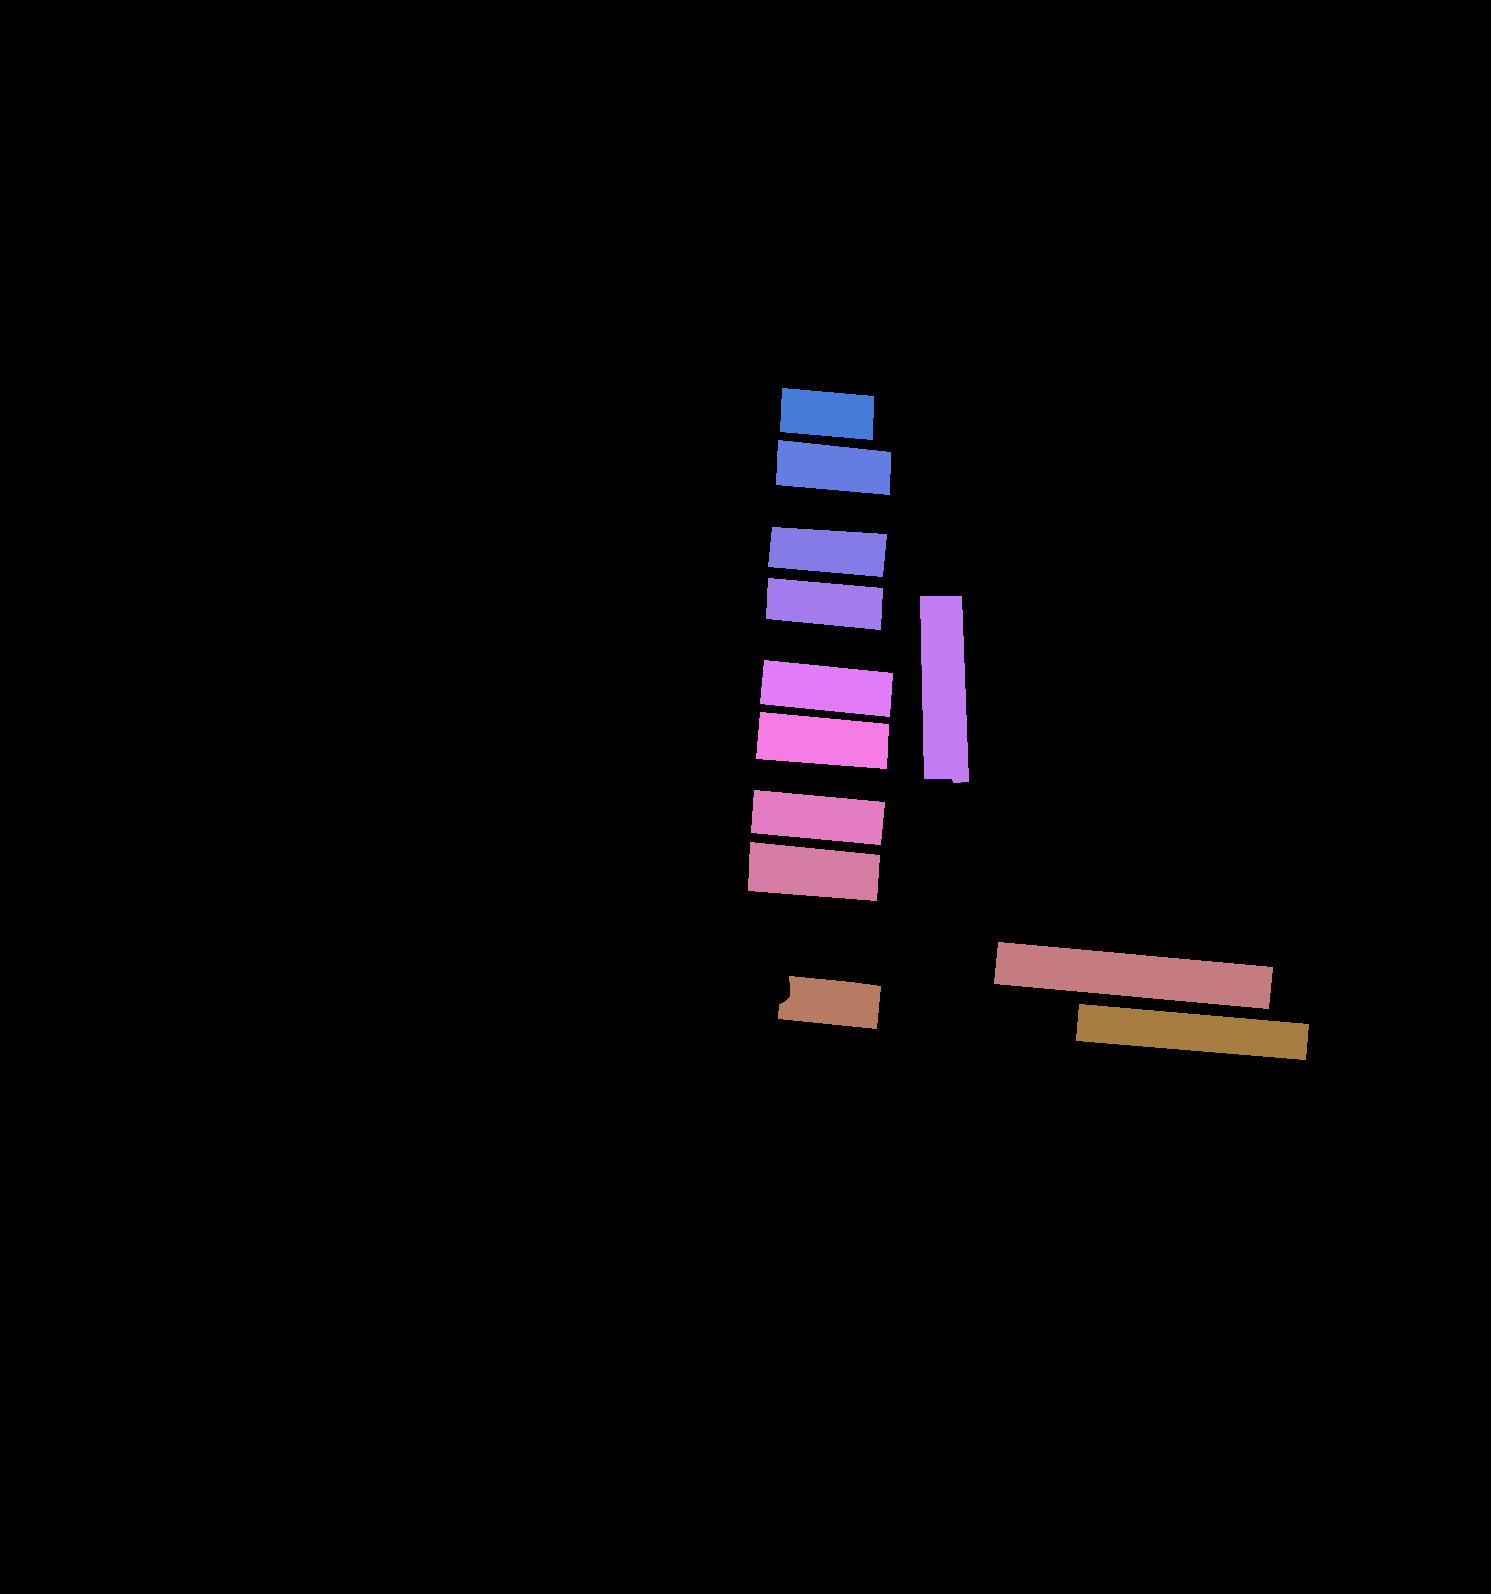parkingspot: (994, 943, 1272, 1009), (1076, 1004, 1307, 1059), (921, 597, 968, 782), (748, 842, 879, 901), (760, 660, 893, 716), (755, 712, 888, 768), (751, 790, 884, 845), (776, 440, 890, 494), (767, 578, 881, 629), (768, 527, 886, 576), (778, 976, 880, 1028), (781, 388, 873, 438)
